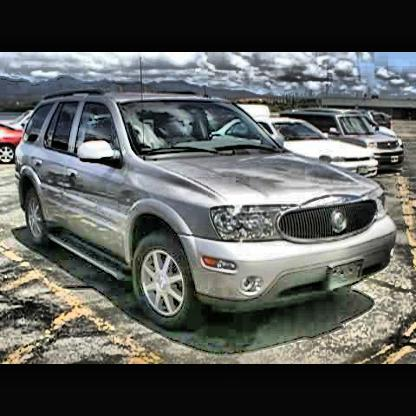Buick Rainier SUV 2007: (13, 89, 402, 332)
